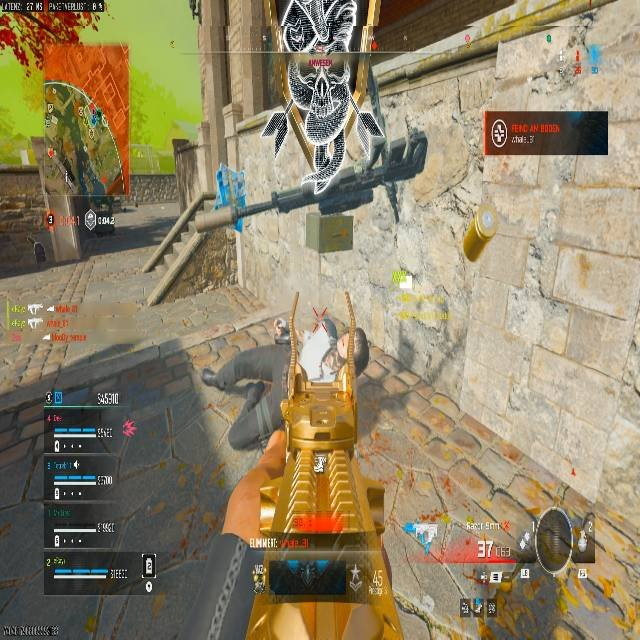head: (288, 52, 351, 123)
player: (175, 3, 449, 467), (475, 506, 636, 640)
